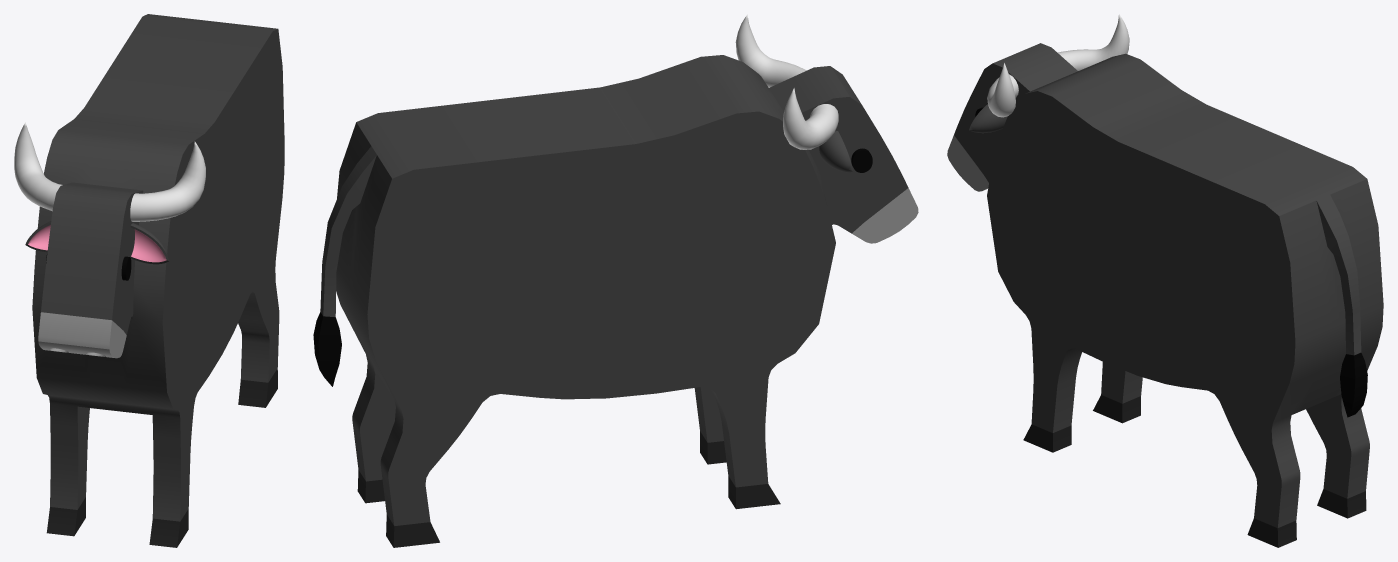
Rendered from water_buffalo.fbx.
The picture shows the model from 3 angles, left to right: view 1: azimuth 30°, elevation 25°; view 2: azimuth 150°, elevation 25°; view 3: azimuth 270°, elevation 25°; orthographic projection. The views are drawn at different scales.
Visible parts, largest first — view 1: Plane.117, Circle.1888, Cube.6228; view 2: Plane.117, Circle.1888, Cube.6228; view 3: Plane.117, Circle.1888, Cube.6228.
Boxes of the visible parts, x1,y1,x2,y2 form: Plane.117: (32,14,284,547); Circle.1888: (14,122,205,221); Cube.6228: (25,221,169,264); Plane.117: (313,55,918,547); Circle.1888: (735,14,838,149); Cube.6228: (819,131,852,172); Plane.117: (947,43,1383,547); Circle.1888: (987,14,1129,117); Cube.6228: (969,104,1007,133).
Size of the model in its own units: 205 by 197 by 205.
1 material, 1 textured.
